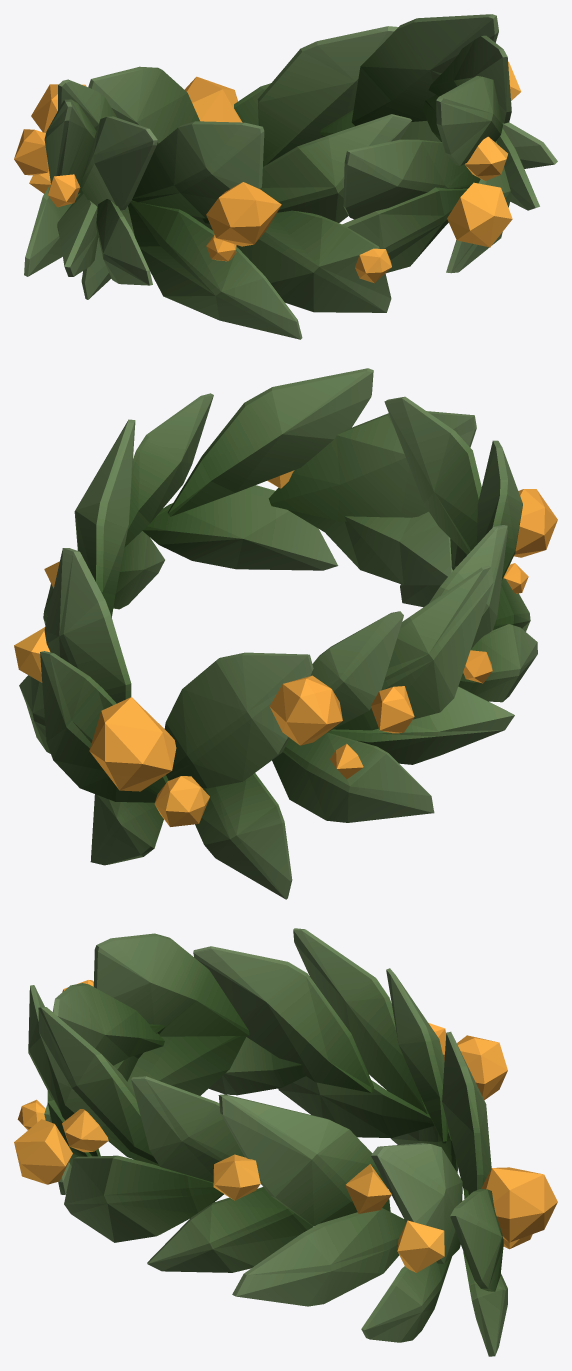
Rendered from CharSkyKid_Neck_FeastWreath.glb.
The picture shows the model from 3 angles, top to bottom: view 1: azimuth 30°, elevation 25°; view 2: azimuth 150°, elevation 25°; view 3: azimuth 270°, elevation 25°; orthographic projection. The views are drawn at different scales.
Visible parts, largest first — view 1: CharSkyKid_Neck_FeastWreath; view 2: CharSkyKid_Neck_FeastWreath; view 3: CharSkyKid_Neck_FeastWreath.
Part boxes in pixels (<box>): CharSkyKid_Neck_FeastWreath: <box>14,14,557,339</box>; CharSkyKid_Neck_FeastWreath: <box>14,368,557,899</box>; CharSkyKid_Neck_FeastWreath: <box>14,928,557,1356</box>.
Size of the model in its own units: 2.82 by 1.87 by 2.82.
Materials: 1 (1 with a texture image).
